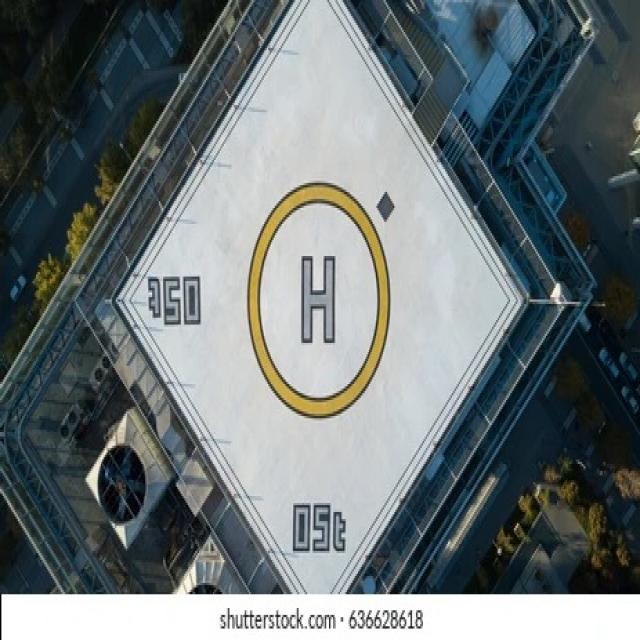helipad: (239, 174, 391, 418)
